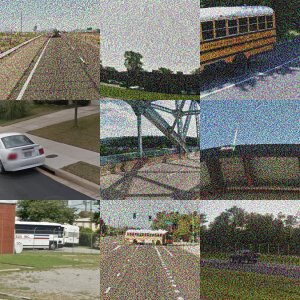汽車: (159, 132, 200, 172), (62, 163, 92, 189), (33, 163, 57, 189), (137, 48, 155, 64), (125, 134, 141, 148)
紅綠燈: (228, 102, 250, 126), (282, 107, 299, 128)
腳踏車: (35, 33, 71, 73), (71, 207, 96, 249), (35, 203, 61, 236)
自行車: (235, 33, 263, 62)
